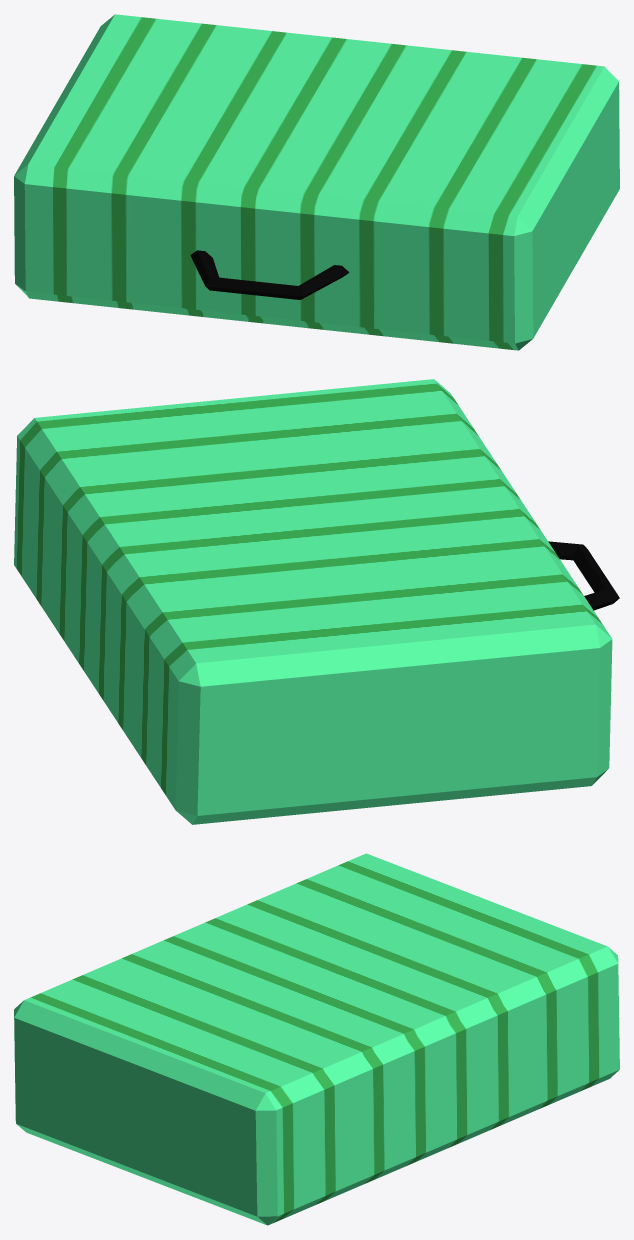
The model's file is SM_Hub_Bag_04.fbx.
3 views of the same model, one above another, from view 1: azimuth 30°, elevation 25°; view 2: azimuth 150°, elevation 25°; view 3: azimuth 270°, elevation 25° (orthographic). The views are drawn at different scales.
Parts seen in each view (by area): view 1: pasted__pasted__SM_Baggage_Bag_01; view 2: pasted__pasted__SM_Baggage_Bag_01; view 3: pasted__pasted__SM_Baggage_Bag_01.
Part boxes in pixels (x1,y1,x2,y2): pasted__pasted__SM_Baggage_Bag_01: (14,14,619,350); pasted__pasted__SM_Baggage_Bag_01: (14,379,619,824); pasted__pasted__SM_Baggage_Bag_01: (14,853,619,1225).
Size of the model in its own units: 7.41 by 1.87 by 7.38.
